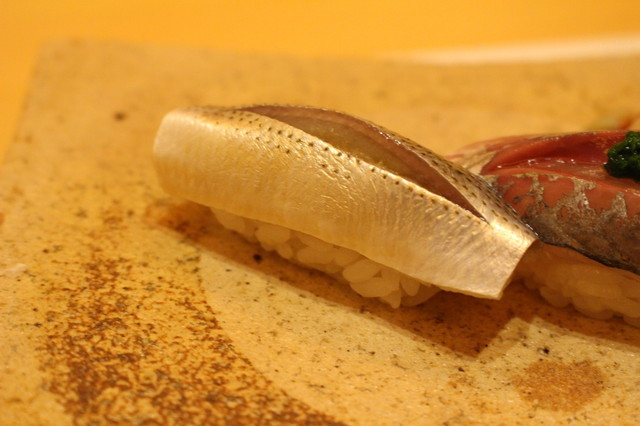spotted-shad: (146, 98, 541, 318)
